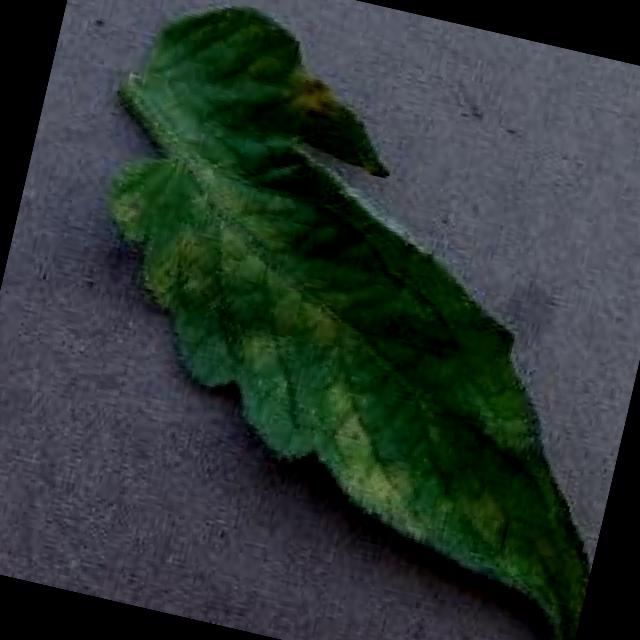leaf mold: (110, 1, 587, 640)
